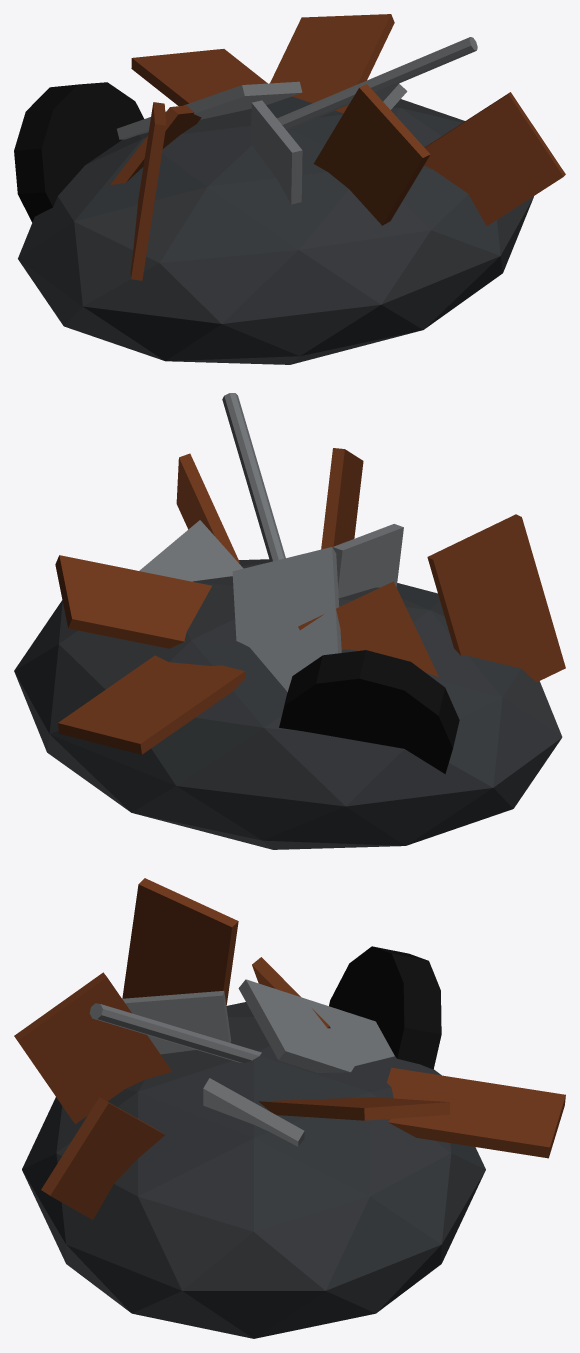
Rendered from Node_ScrapPile.fbx.
The picture shows the model from 3 angles, top to bottom: view 1: azimuth 30°, elevation 25°; view 2: azimuth 150°, elevation 25°; view 3: azimuth 270°, elevation 25°; orthographic projection. The views are drawn at different scales.
Parts seen in each view (by area): view 1: Node_ScrapPile; view 2: Node_ScrapPile; view 3: Node_ScrapPile.
Boxes of the visible parts, <box> form: Node_ScrapPile: <box>14,14,565,364</box>; Node_ScrapPile: <box>14,393,565,849</box>; Node_ScrapPile: <box>14,878,565,1338</box>.
Bounding box in the file's own units: 1.36 × 0.9111 × 1.31.
